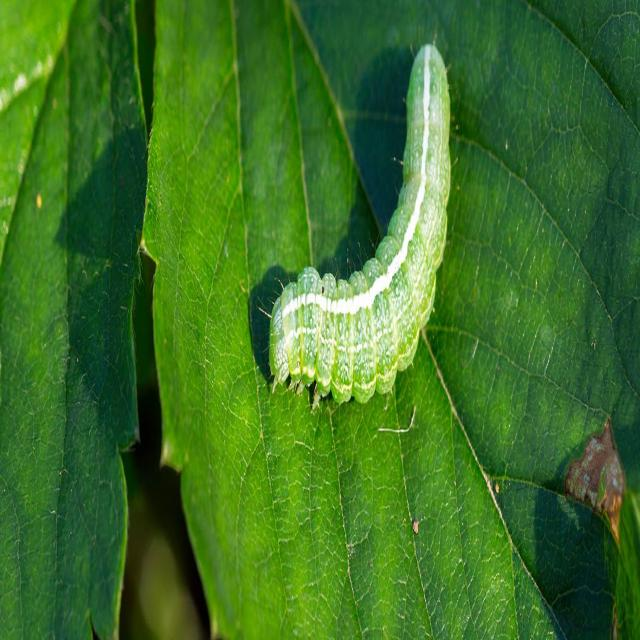looper: (268, 35, 454, 431)
